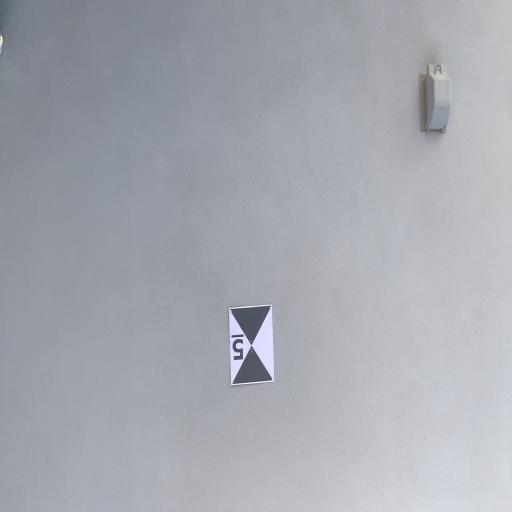target5: (229, 306, 274, 387)
